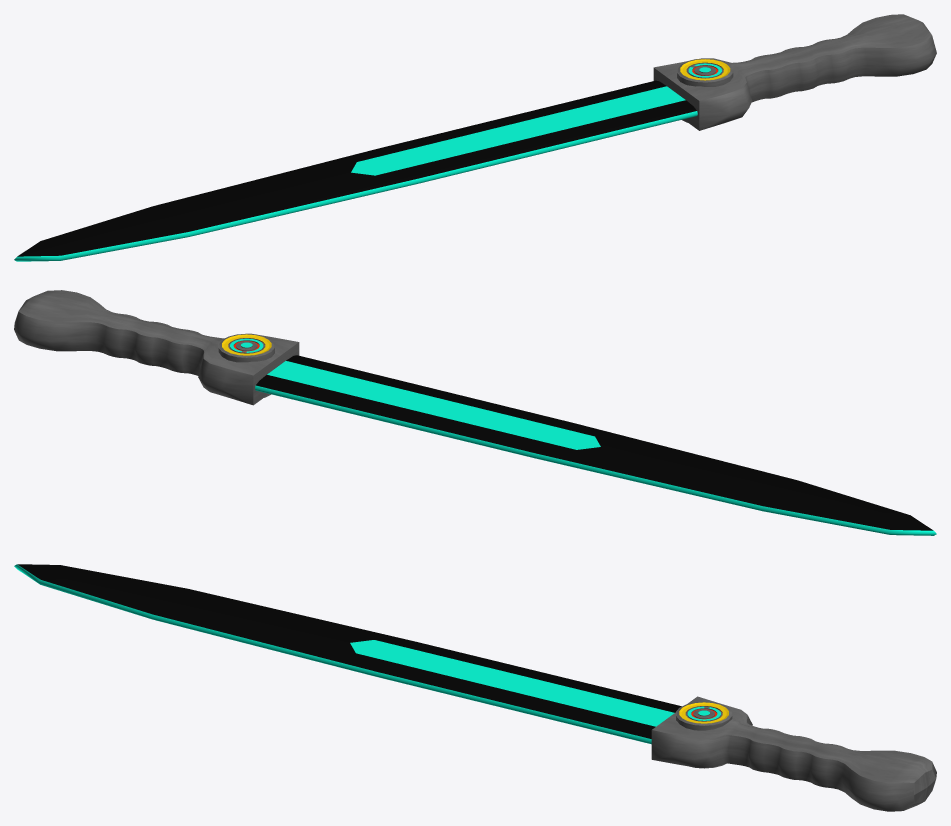
File: sword.FBX
3 views of the same model, one above another, from view 1: azimuth 30°, elevation 25°; view 2: azimuth 150°, elevation 25°; view 3: azimuth 330°, elevation 25° (orthographic).
Parts seen in each view (by area): view 1: Blade, Hilt, Blade-Glow, Core; view 2: Blade, Hilt, Blade-Glow, Core; view 3: Blade, Hilt, Blade-Glow, Core.
Boxes of the visible parts, x1,y1,x2,y2 form: Blade: (17,80,696,256); Hilt: (653,14,936,130); Blade-Glow: (14,86,697,261); Core: (677,58,733,122); Blade: (256,355,933,530); Hilt: (14,290,299,405); Blade-Glow: (255,361,936,535); Core: (218,333,274,397); Blade: (17,564,681,738); Hilt: (651,696,936,811); Blade-Glow: (14,564,674,744); Core: (676,701,732,768).
Bounding box in the file's own units: 38.65 × 1.79 × 4.29.
6 materials, 2 textured.
